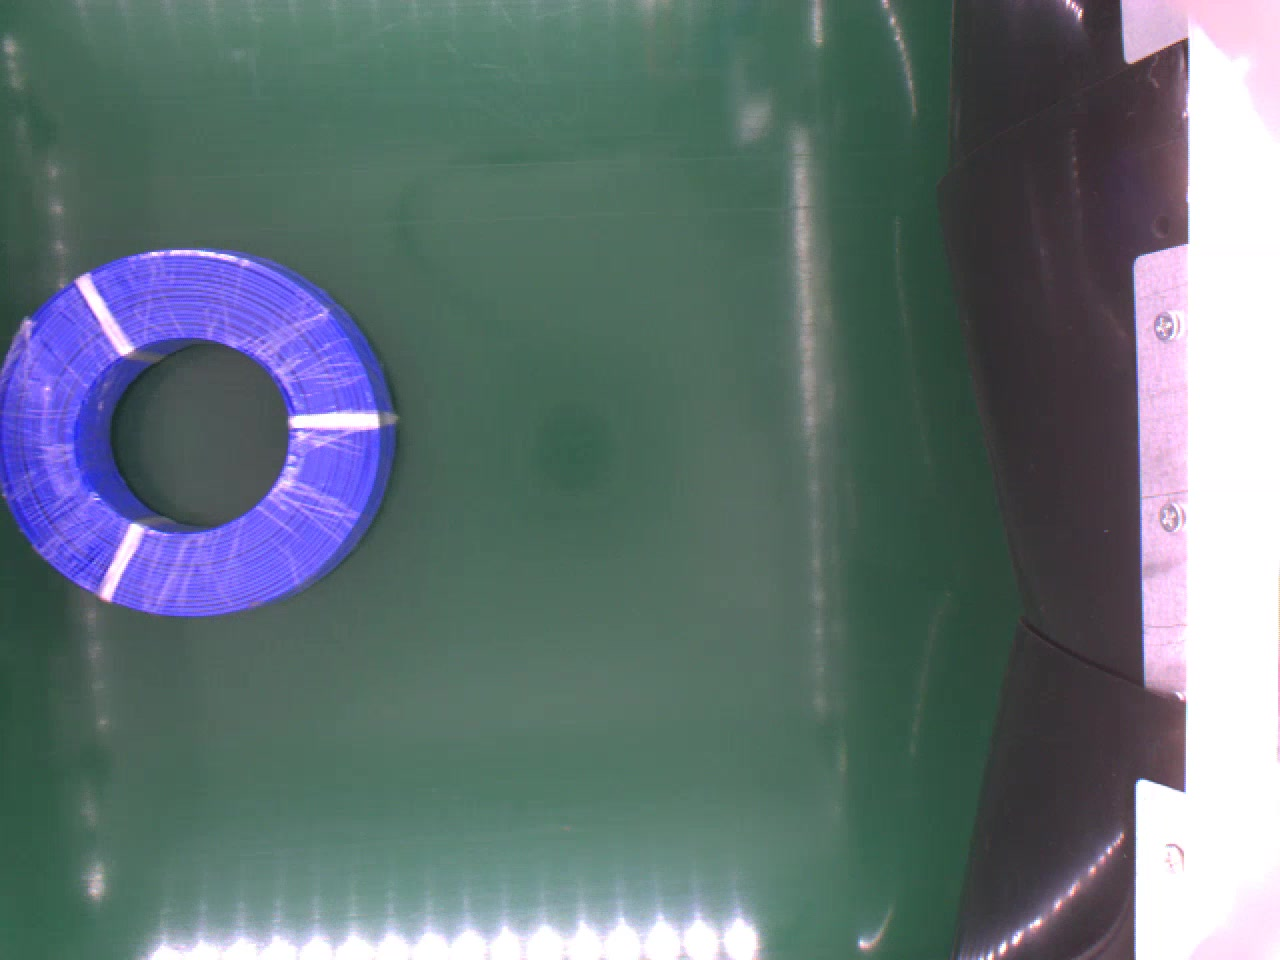blue: (0, 245, 400, 618)
